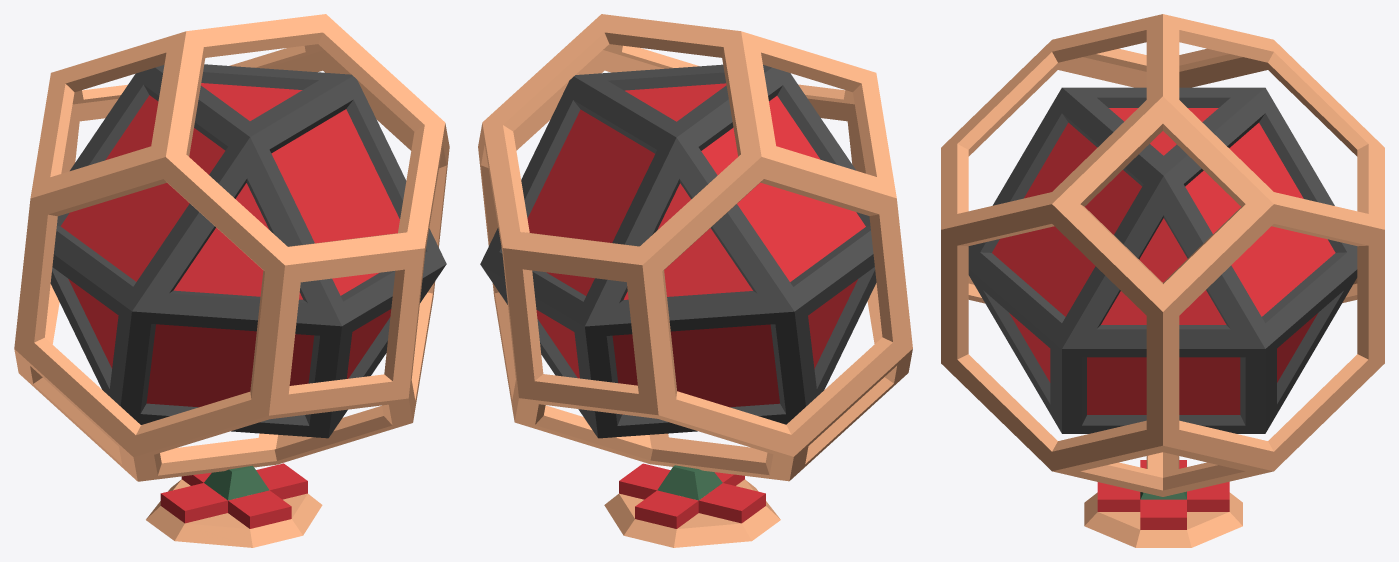
The model's file is Obra5_stoer.glb.
3 views of the same model, side by side, from view 1: azimuth 30°, elevation 25°; view 2: azimuth 150°, elevation 25°; view 3: azimuth 270°, elevation 25° (orthographic). The views are drawn at different scales.
Parts seen in each view (by area): view 1: Solid.016, Solid.015, Solid.014, Cube.019, Cube.017, Cube.018; view 2: Solid.016, Solid.015, Solid.014, Cube.019, Cube.017, Cube.018; view 3: Solid.016, Solid.015, Solid.014, Cube.017, Cube.019.
Part boxes in pixels (<box>): Solid.016: <box>14,14,449,481</box>; Solid.015: <box>50,64,446,438</box>; Solid.014: <box>60,83,399,407</box>; Cube.019: <box>160,463,307,528</box>; Cube.017: <box>146,479,322,547</box>; Cube.018: <box>204,465,269,500</box>; Solid.016: <box>478,14,912,481</box>; Solid.015: <box>480,64,876,438</box>; Solid.014: <box>527,83,865,414</box>; Cube.019: <box>619,463,765,528</box>; Cube.017: <box>604,479,780,547</box>; Cube.018: <box>657,465,722,500</box>; Solid.016: <box>941,14,1384,496</box>; Solid.015: <box>968,87,1357,433</box>; Solid.014: <box>992,108,1335,414</box>; Cube.017: <box>1084,492,1242,547</box>; Cube.019: <box>1097,460,1229,529</box>.
Bounding box in the file's own units: 1.76 × 1.91 × 1.61.
